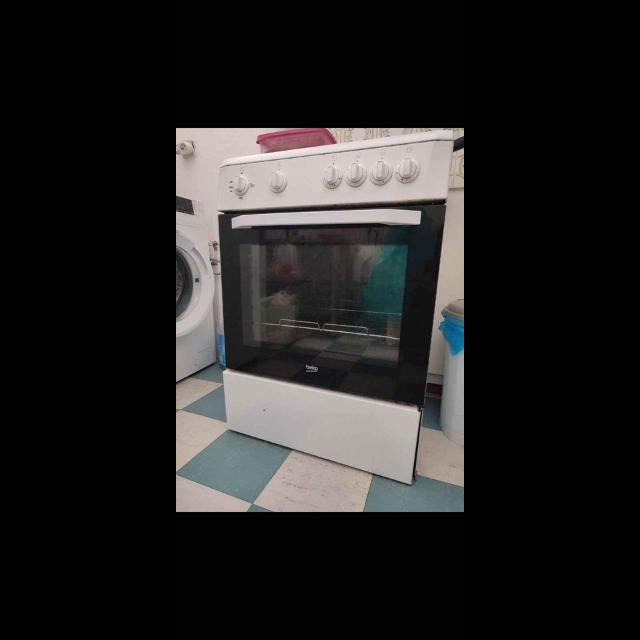Oven: (215, 135, 450, 495)
